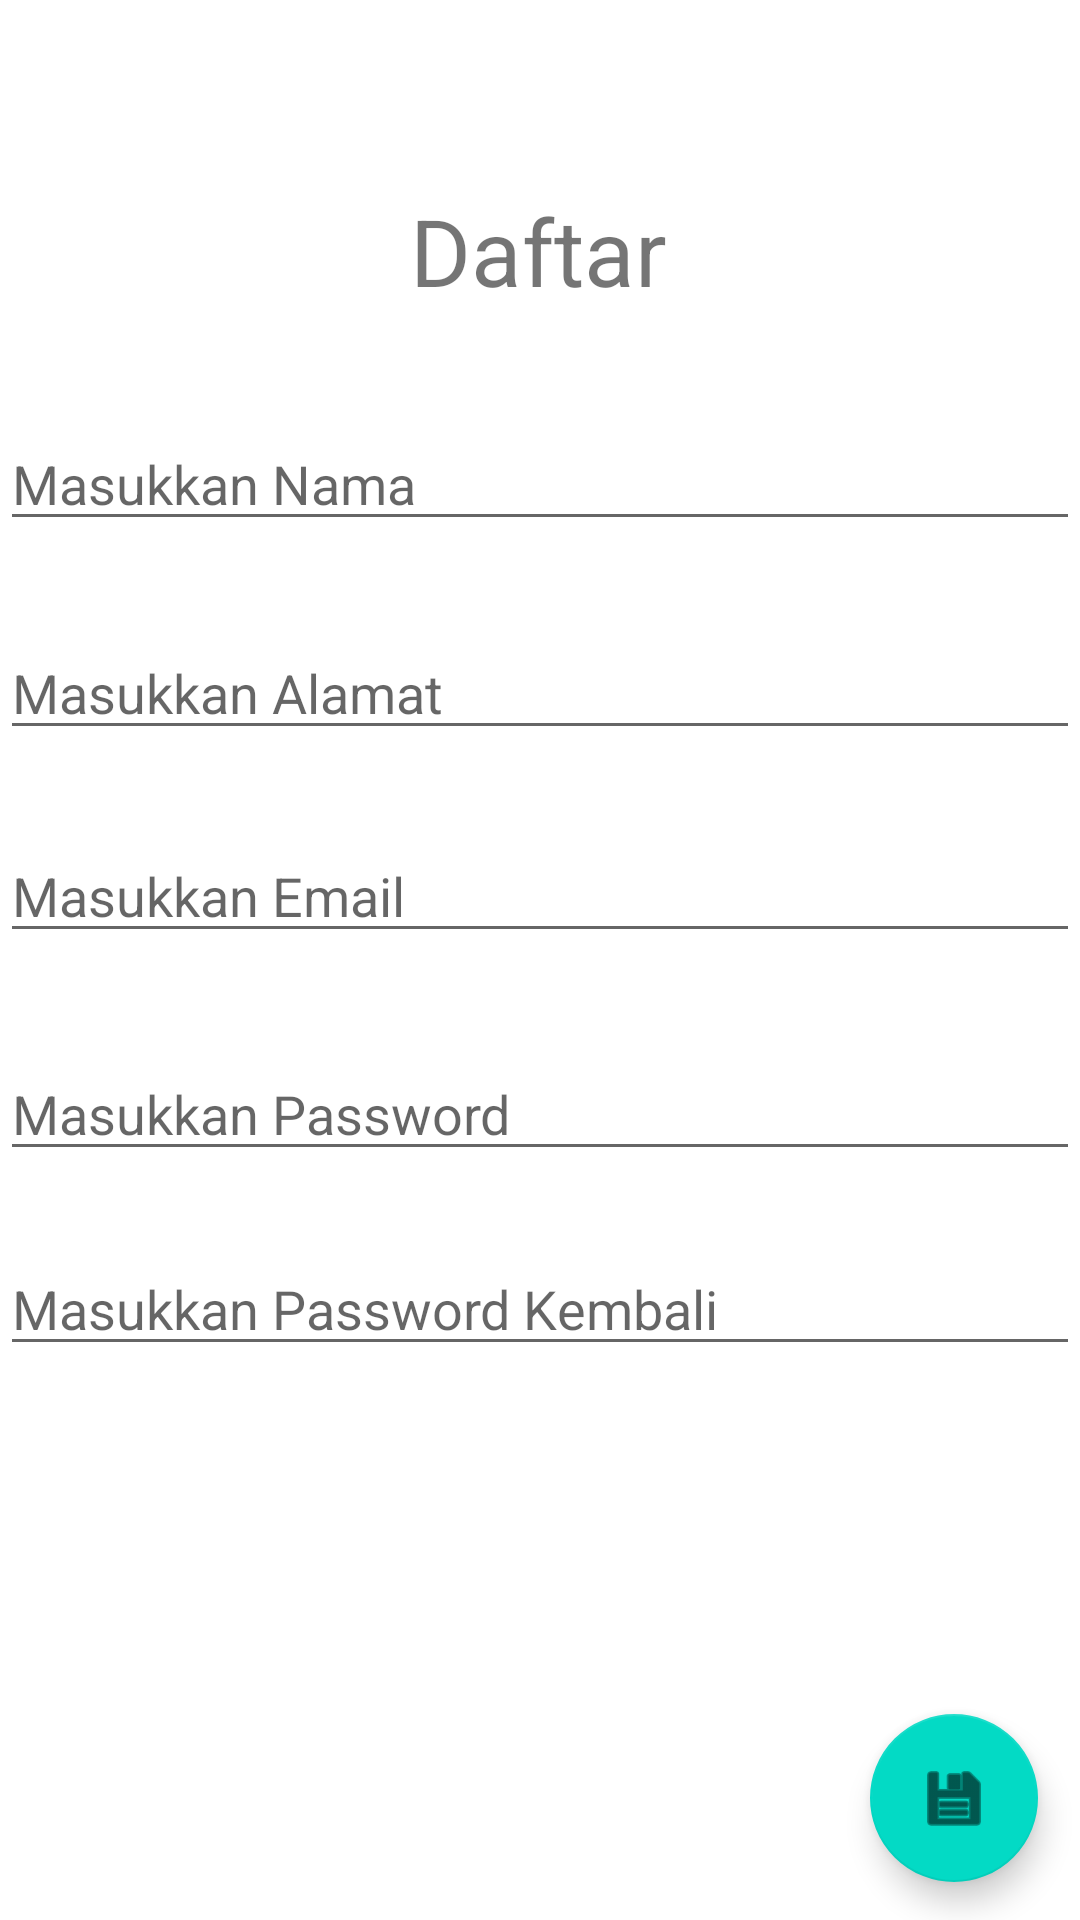

Where icons sit on this 1080w x 1920h app screen, as (x1, y1, x2, y2):
save: (870, 1714, 1038, 1882)
